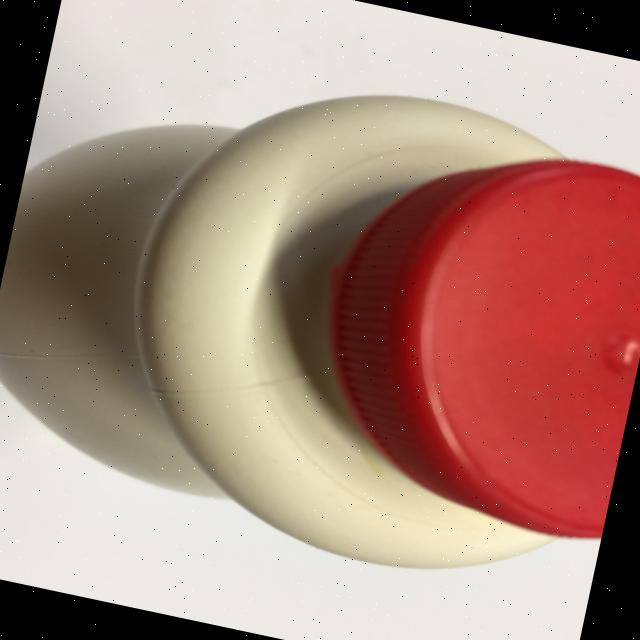plastic: (85, 44, 640, 600), (283, 110, 640, 546)
